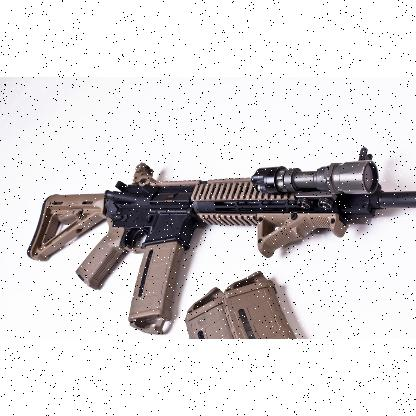gun: (34, 152, 408, 324)
